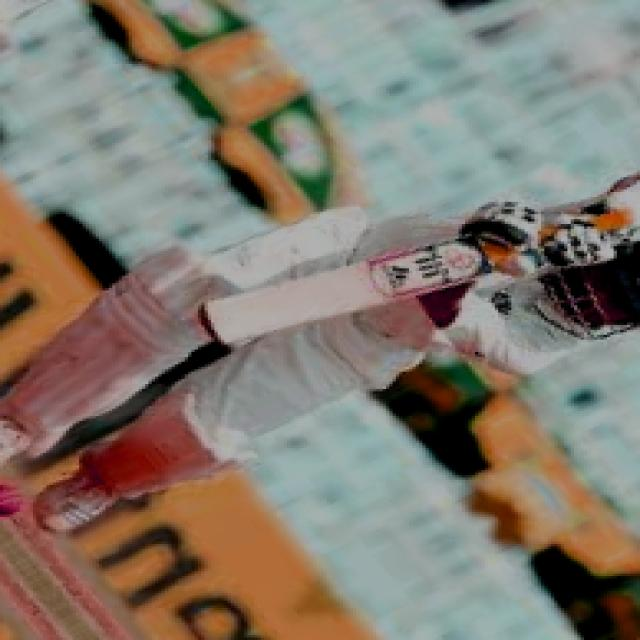toe: (188, 278, 323, 354)
